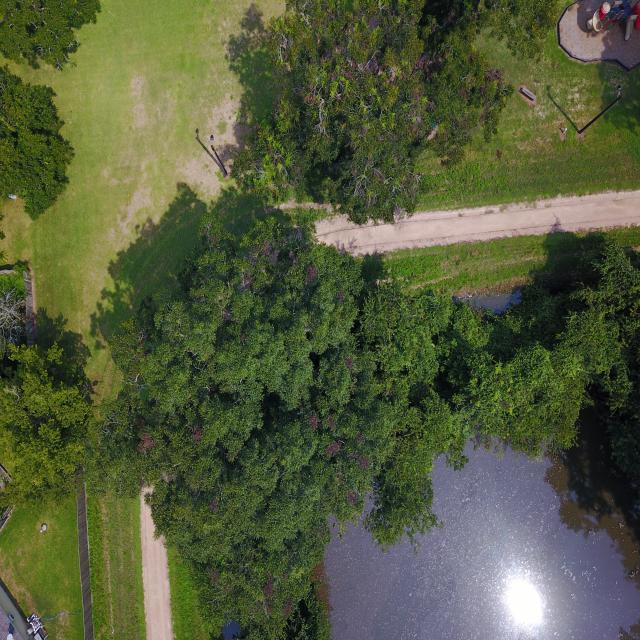fire: (324, 415, 640, 640)
